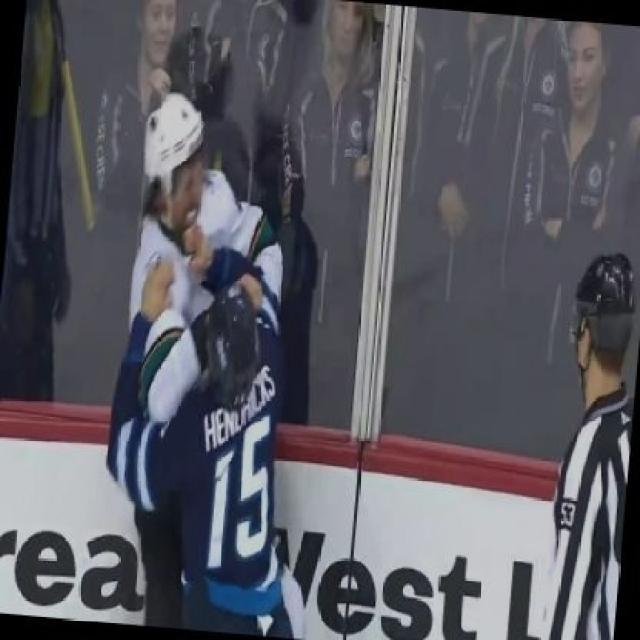fight: (88, 74, 329, 637)
non-fight: (540, 247, 638, 638)
